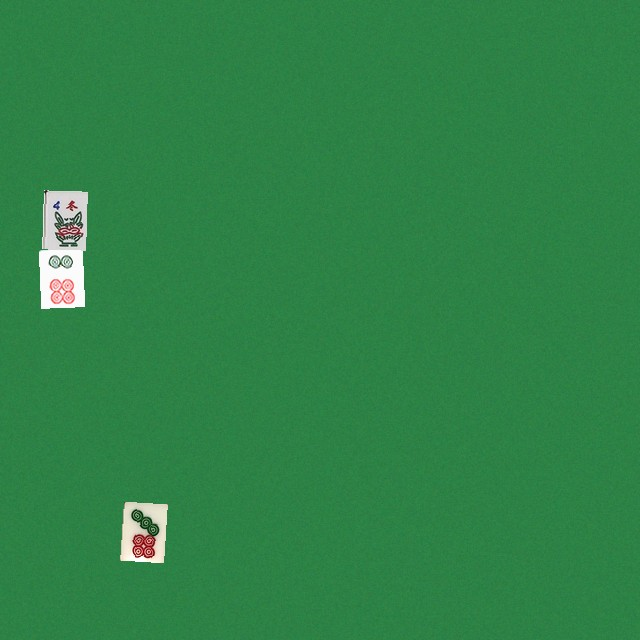tile: (120, 501, 164, 560), (38, 248, 82, 307), (42, 190, 86, 249)
